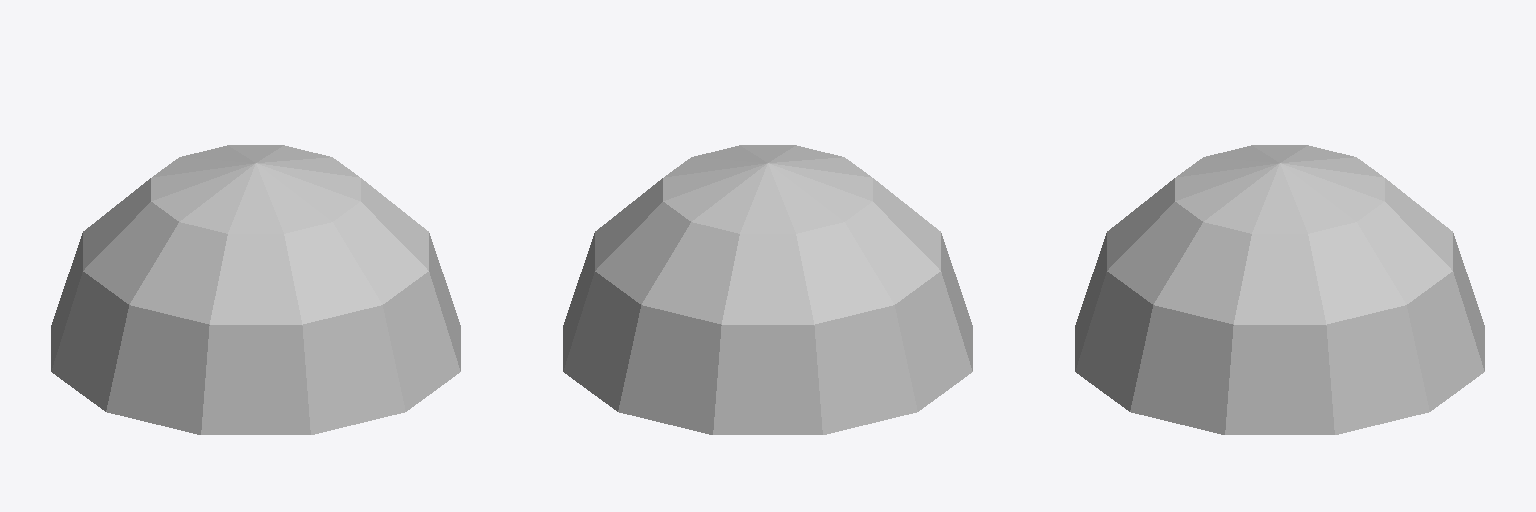
Rendered from rotanev_lv_cap_fuel_tank_s4_1_collider.obj.
3 views of the same model, side by side, from view 1: azimuth 30°, elevation 25°; view 2: azimuth 150°, elevation 25°; view 3: azimuth 270°, elevation 25° (orthographic).
Parts seen in each view (by area): view 1: collider; view 2: collider; view 3: collider.
Boxes of the visible parts, <box> form: collider: <box>51,145,460,434</box>; collider: <box>563,145,972,434</box>; collider: <box>1075,145,1484,434</box>.
Bounding box in the file's own units: 5 × 2.5 × 5.